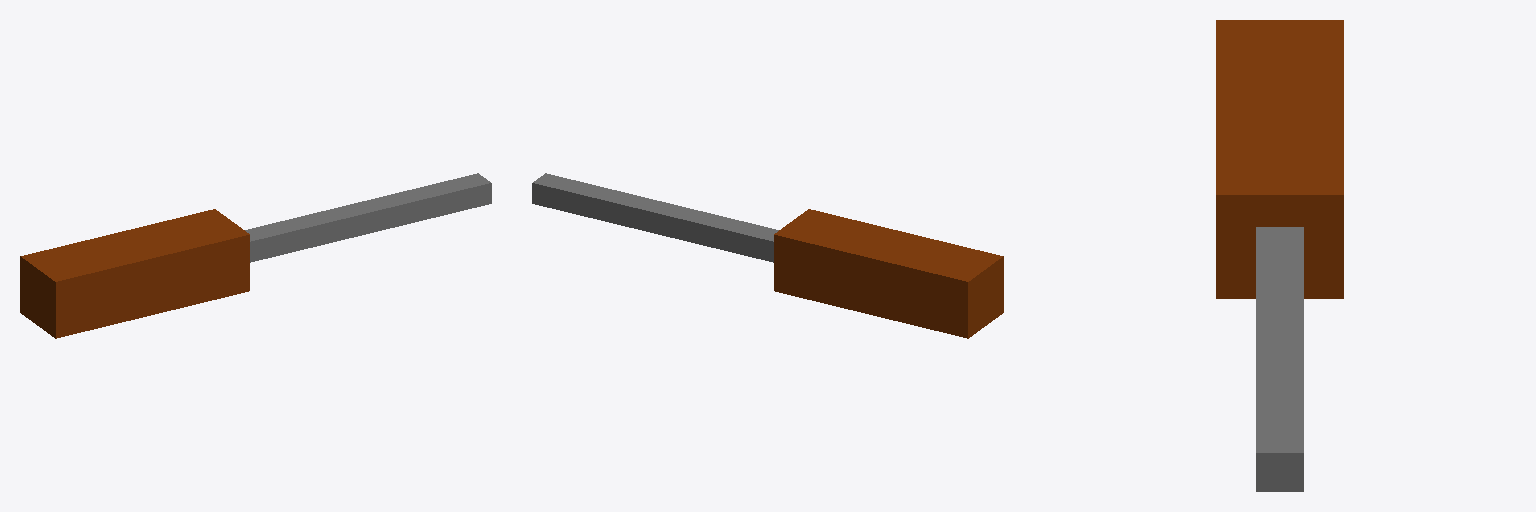
The robot description file, URDF, robot "handle_head":
<?xml version="1.0"?>
<robot name="handle_head">

  <link name="handle_head">
    <!-- Handle -->
    <visual>
              <origin xyz="0 0 0" rpy="0 0 0"/>
        <geometry>
          <box size="0.11079572788461761 0.03458705545284292 0.030860397613631286"/>
        </geometry>
        
      <material name="brown">
        <color rgba="0.55 0.27 0.07 1.0"/>
      </material>
    </visual>
    <collision>
              <origin xyz="0 0 0" rpy="0 0 0"/>
        <geometry>
          <box size="0.11079572788461761 0.03458705545284292 0.030860397613631286"/>
        </geometry>
        
    </collision>

    <!-- Head -->
    <visual>
              <origin xyz="0.1271763504379596 0 0" rpy="0 0 0"/>
        <geometry>
          <box size="0.1435569729913016 0.013004972441590655 0.011405166183464597"/>
        </geometry>
        
      <material name="gray">
        <color rgba="0.5 0.5 0.5 1.0"/>
      </material>
    </visual>
    <collision>
              <origin xyz="0.1271763504379596 0 0" rpy="0 0 0"/>
        <geometry>
          <box size="0.1435569729913016 0.013004972441590655 0.011405166183464597"/>
        </geometry>
        
    </collision>

    <inertial>
      <origin xyz="0.05814580812996041 0 0" rpy="0 0 0"/>
      <mass value="0.07345272626732505"/>
      <inertia ixx="7.976119642953078e-06" iyy="0.0003968161192785322" izz="0.0003977357605605102" ixy="0" ixz="0" iyz="0"/>
    </inertial>
  </link>

</robot>

--- What the picture shows (computed from the rendered views, not written in the file) ---
Views: 3 orthographic renders of the robot side by side, from view 1: azimuth 30°, elevation 25°; view 2: azimuth 150°, elevation 25°; view 3: azimuth 270°, elevation 25°.
Robot: handle_head — 1 links, 0 joints (none); root link handle_head; default pose: all joints at 0.
Links seen in each view (by area): view 1: handle_head; view 2: handle_head; view 3: handle_head.
Boxes of the visible links, left/top/right/bottom form: handle_head: left=20, top=173, right=491, bottom=338; handle_head: left=532, top=173, right=1003, bottom=338; handle_head: left=1216, top=20, right=1343, bottom=491.
Bounding box of the posed robot: 0.2544 × 0.0346 × 0.0309 m (x, y, z).
Geometry: primitives only (box / cylinder / sphere), no mesh files.
